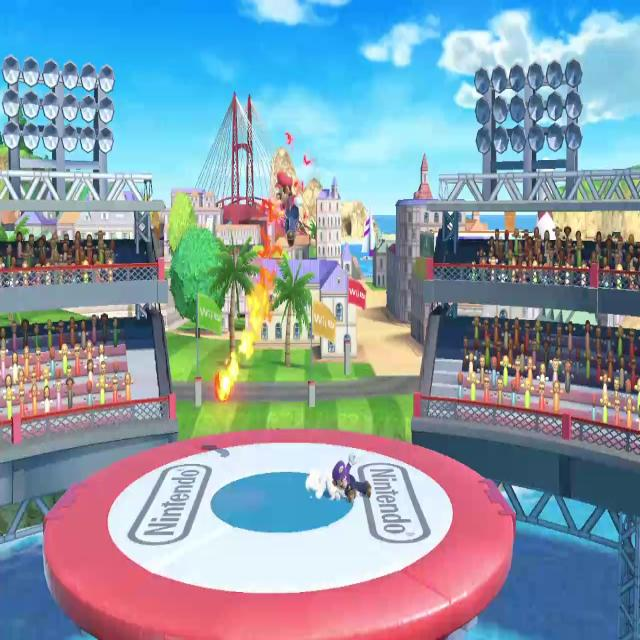Mario-DA: (326, 449, 374, 509)
Mario-NB: (268, 168, 304, 252)
